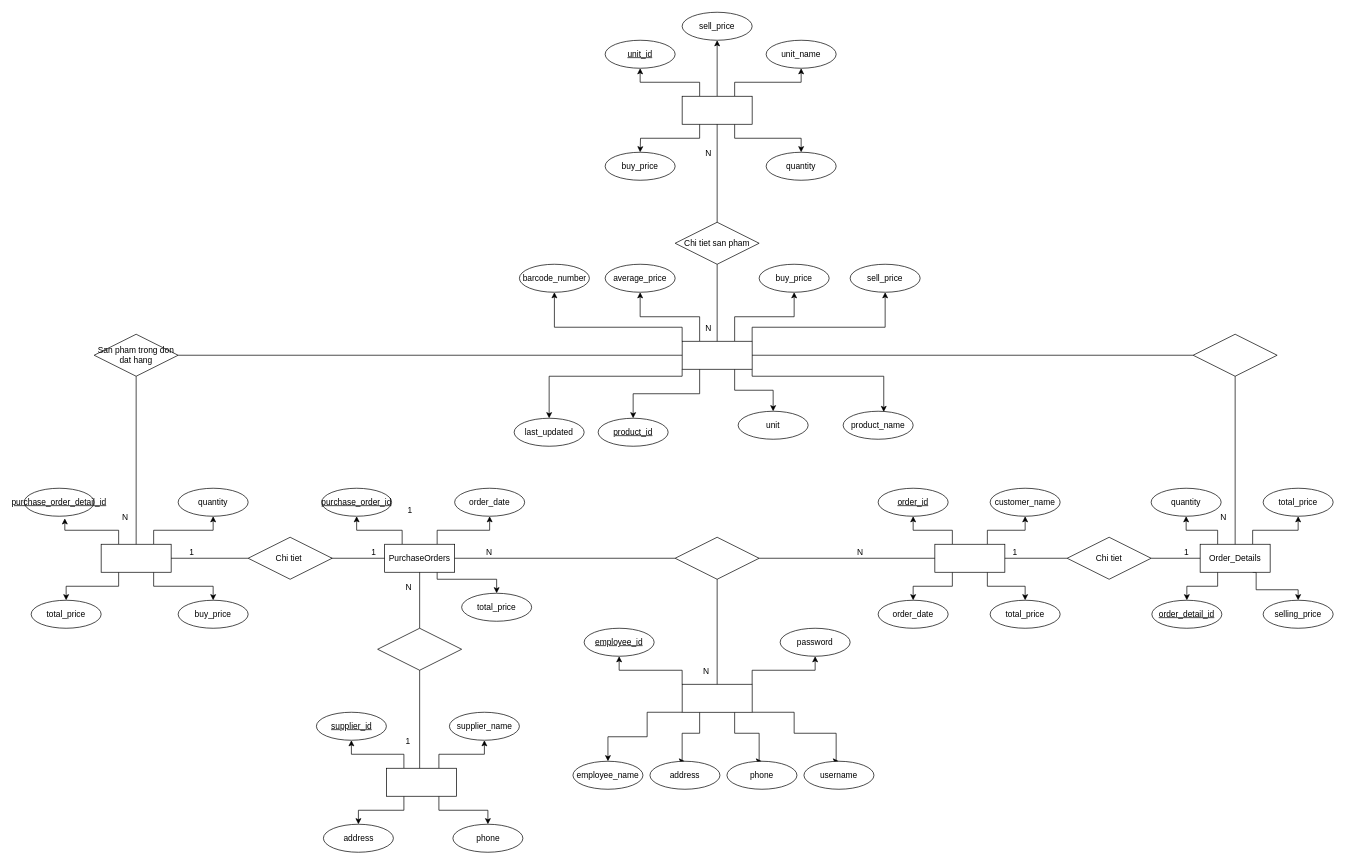
Some shapes in this 1345 by 865 pixel diagram are drawn without their labels. Each missing label, with the centre of its shape:
"Employees" goes at point 716,698.
"Nha cung cap" goes at point 419,649.
"Orders" goes at point 969,558.
"Products" goes at point 716,355.
"PurchaseOrderDetails" goes at point 135,558.
"Quan ly" goes at point 716,558.
"San pham trong don hang" goes at point 1234,355.
"Suppliers" goes at point 421,782.
"Units" goes at point 716,110.
